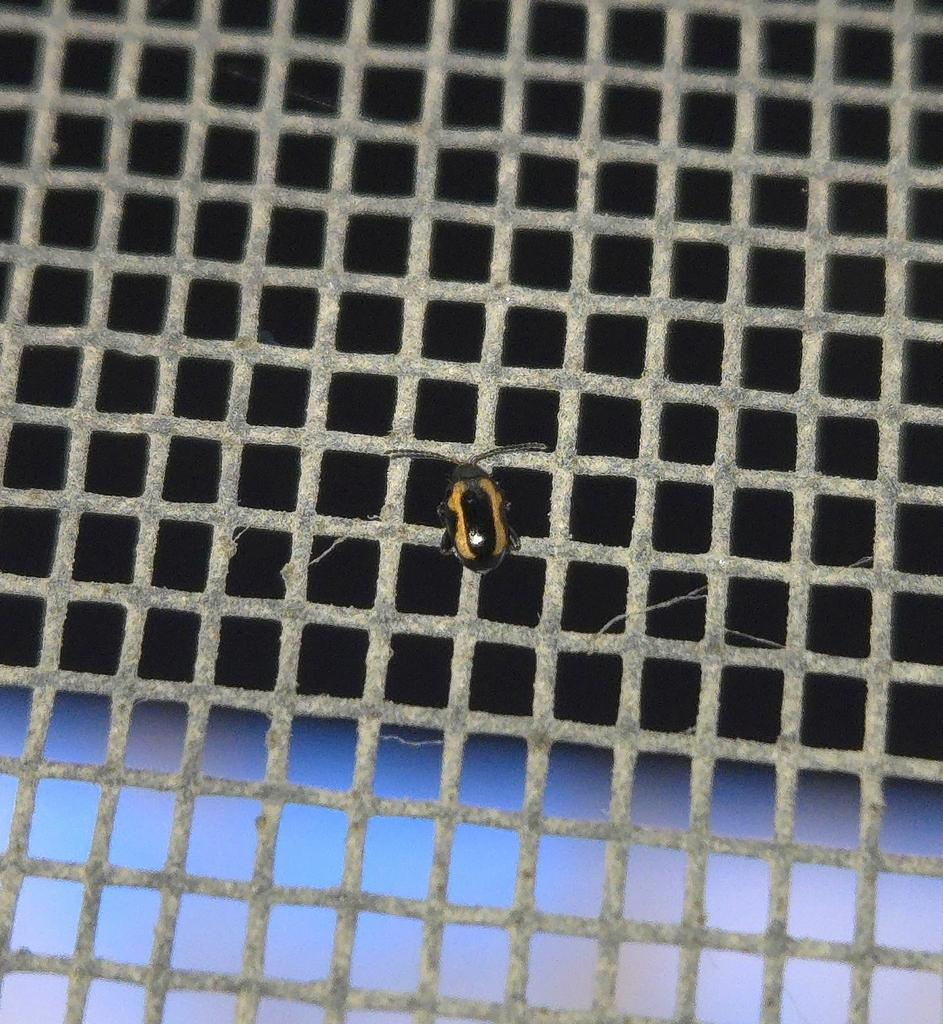flea_beetle: (366, 397, 579, 597)
